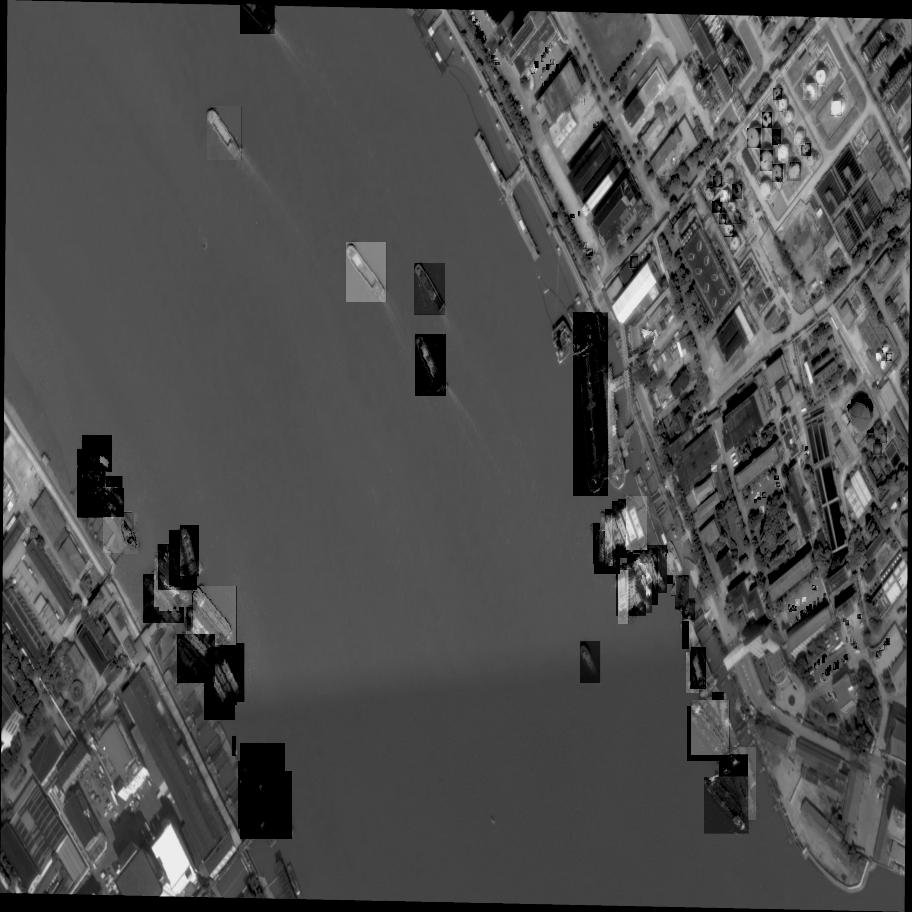ship: (572, 314, 609, 496), (239, 743, 287, 840), (190, 586, 240, 645), (703, 777, 752, 834), (344, 242, 390, 302), (237, 761, 277, 830), (151, 553, 196, 607), (719, 755, 750, 833), (690, 701, 732, 757), (727, 748, 758, 821), (142, 574, 187, 624), (174, 633, 219, 683), (414, 334, 449, 396), (205, 106, 245, 160), (263, 772, 295, 839), (212, 644, 247, 703), (156, 545, 200, 591), (686, 707, 723, 761), (203, 665, 238, 720), (413, 263, 449, 315), (189, 593, 222, 648), (168, 530, 199, 588), (626, 555, 660, 606), (185, 604, 218, 656), (615, 565, 648, 616), (208, 650, 238, 706), (75, 469, 109, 518), (621, 564, 655, 613), (182, 616, 214, 668), (616, 499, 643, 553), (101, 511, 134, 554), (78, 435, 115, 472), (641, 546, 669, 594), (611, 502, 634, 558), (625, 497, 649, 550), (593, 532, 622, 574), (76, 449, 104, 491), (579, 641, 604, 683), (179, 526, 199, 577), (639, 548, 659, 598), (158, 571, 182, 611), (93, 489, 127, 517), (120, 513, 140, 554), (712, 692, 724, 752), (105, 476, 125, 510), (691, 647, 707, 689), (84, 450, 104, 483), (686, 652, 702, 693), (618, 570, 630, 624), (605, 510, 615, 566), (676, 576, 691, 611), (668, 542, 684, 573), (665, 553, 683, 576), (612, 509, 620, 556), (102, 487, 121, 506), (593, 523, 601, 563), (681, 599, 696, 620), (666, 550, 674, 584), (123, 513, 137, 532), (671, 576, 682, 596), (682, 621, 689, 649), (233, 737, 235, 756)
small-vehicle: (586, 249, 595, 256), (711, 466, 718, 474), (479, 32, 486, 39), (795, 599, 801, 607), (822, 673, 828, 681), (583, 242, 589, 250), (761, 504, 766, 513), (551, 41, 558, 47), (828, 691, 833, 699), (845, 620, 851, 626), (792, 606, 798, 612), (788, 605, 794, 611), (475, 21, 481, 27), (473, 19, 479, 25), (542, 67, 548, 73), (543, 82, 549, 88), (801, 610, 806, 617), (886, 638, 891, 645), (825, 669, 830, 676), (835, 662, 840, 669), (547, 45, 552, 52), (580, 98, 585, 105), (876, 651, 882, 656), (847, 629, 853, 634), (857, 615, 863, 620), (852, 644, 858, 649), (815, 662, 820, 668), (802, 597, 807, 603), (534, 62, 539, 68), (754, 496, 760, 501), (761, 492, 767, 497), (776, 482, 781, 488), (595, 121, 600, 127), (833, 662, 837, 669), (804, 446, 809, 451), (851, 642, 857, 646), (809, 605, 813, 611), (795, 615, 799, 621), (790, 620, 794, 626), (825, 653, 829, 659), (545, 47, 549, 53), (531, 67, 535, 73), (476, 28, 482, 32), (774, 476, 780, 480), (593, 122, 597, 128), (549, 75, 553, 81), (822, 656, 825, 663), (540, 75, 544, 80), (814, 663, 817, 669), (813, 602, 816, 608), (804, 609, 807, 615), (543, 52, 546, 58), (800, 612, 804, 616), (789, 609, 793, 613), (481, 36, 485, 40), (818, 659, 821, 664), (845, 654, 848, 659), (549, 44, 552, 49), (495, 62, 500, 65), (823, 593, 825, 600), (850, 639, 853, 643), (813, 586, 816, 590), (472, 17, 475, 21), (571, 215, 575, 218), (553, 70, 555, 76), (547, 65, 549, 70), (533, 65, 535, 70), (556, 65, 558, 70), (879, 648, 882, 651), (884, 642, 887, 645), (882, 646, 884, 650), (551, 60, 553, 64), (552, 72, 554, 76), (818, 598, 819, 604), (825, 672, 826, 678), (844, 656, 845, 662), (821, 659, 822, 665), (542, 56, 543, 62), (491, 57, 494, 59), (760, 507, 761, 513), (758, 493, 760, 496), (805, 452, 807, 455), (807, 607, 808, 612), (799, 614, 800, 619), (844, 620, 846, 622), (883, 643, 884, 647), (828, 668, 829, 672), (494, 59, 498, 60), (478, 32, 480, 34), (543, 84, 544, 88), (579, 211, 580, 215), (845, 637, 846, 640), (759, 498, 760, 500), (755, 501, 756, 502), (821, 675, 821, 679), (830, 667, 830, 667), (838, 661, 838, 663), (824, 655, 824, 657)
storage-tank: (846, 399, 875, 434), (787, 161, 802, 181), (760, 150, 773, 171), (747, 128, 760, 148), (759, 182, 773, 200), (803, 83, 817, 101), (779, 144, 792, 163), (773, 164, 785, 183), (723, 168, 736, 185), (704, 186, 716, 201), (831, 102, 843, 117), (794, 131, 806, 146), (783, 109, 794, 124), (762, 112, 772, 128), (733, 184, 743, 199), (712, 201, 723, 214), (730, 237, 740, 251), (727, 202, 737, 216), (816, 70, 826, 84), (772, 130, 781, 145), (801, 143, 811, 156), (808, 154, 817, 168), (724, 225, 734, 237), (873, 444, 883, 456), (779, 99, 788, 112), (774, 88, 783, 101), (630, 257, 639, 269), (714, 177, 722, 187), (721, 191, 728, 202), (733, 214, 740, 223), (885, 353, 892, 362), (720, 214, 726, 224), (881, 433, 886, 443), (647, 243, 652, 252), (882, 346, 887, 353), (876, 354, 881, 360), (881, 362, 885, 367)
